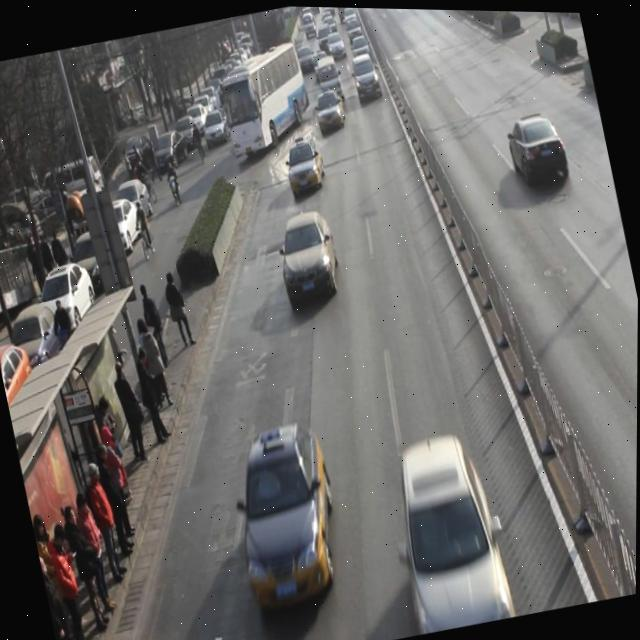car: (379, 423, 518, 635), (220, 418, 355, 613), (271, 207, 348, 309), (503, 107, 572, 188), (281, 136, 330, 196), (348, 50, 385, 104), (313, 86, 349, 133)
truck: (312, 52, 346, 103)
van: (213, 41, 317, 162)
